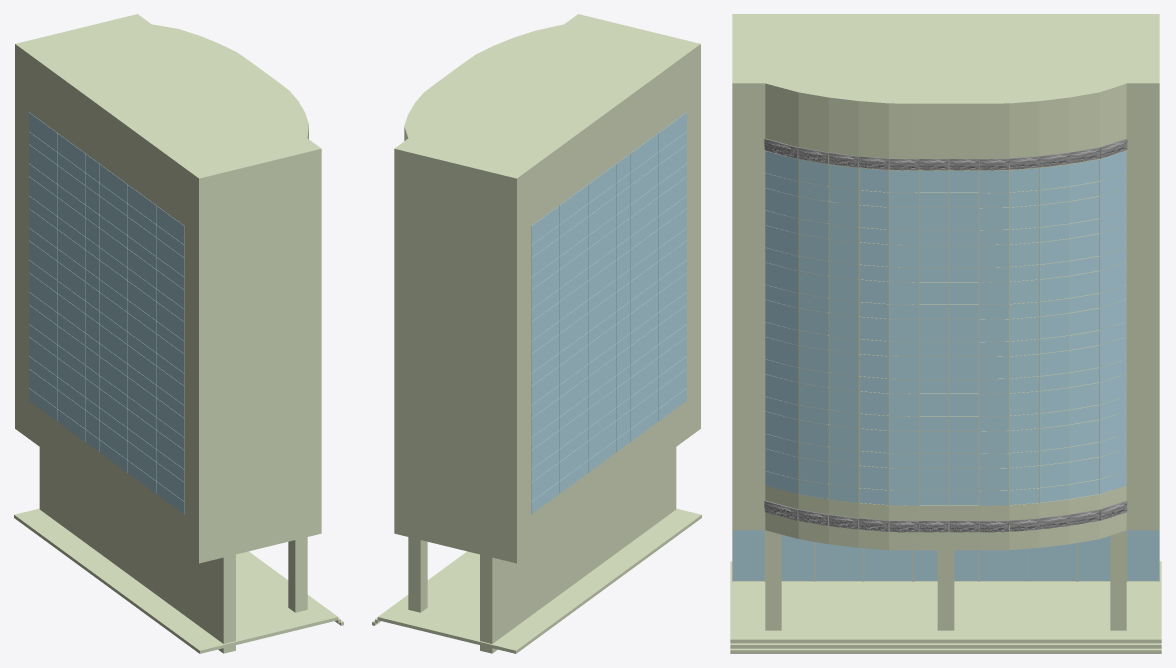
The picture shows the model from 3 angles, left to right: view 1: azimuth 30°, elevation 25°; view 2: azimuth 150°, elevation 25°; view 3: azimuth 270°, elevation 25°; orthographic projection. The views are drawn at different scales.
Parts seen in each view (by area): view 1: B5-B6; view 2: B5-B6; view 3: B5-B6.
Boxes of the visible parts, box(x1,y1,x2,y2) form: B5-B6: box(14, 14, 343, 653); B5-B6: box(372, 14, 701, 653); B5-B6: box(730, 14, 1161, 653).
Bounding box in the file's own units: 52.34 × 150 × 105.
